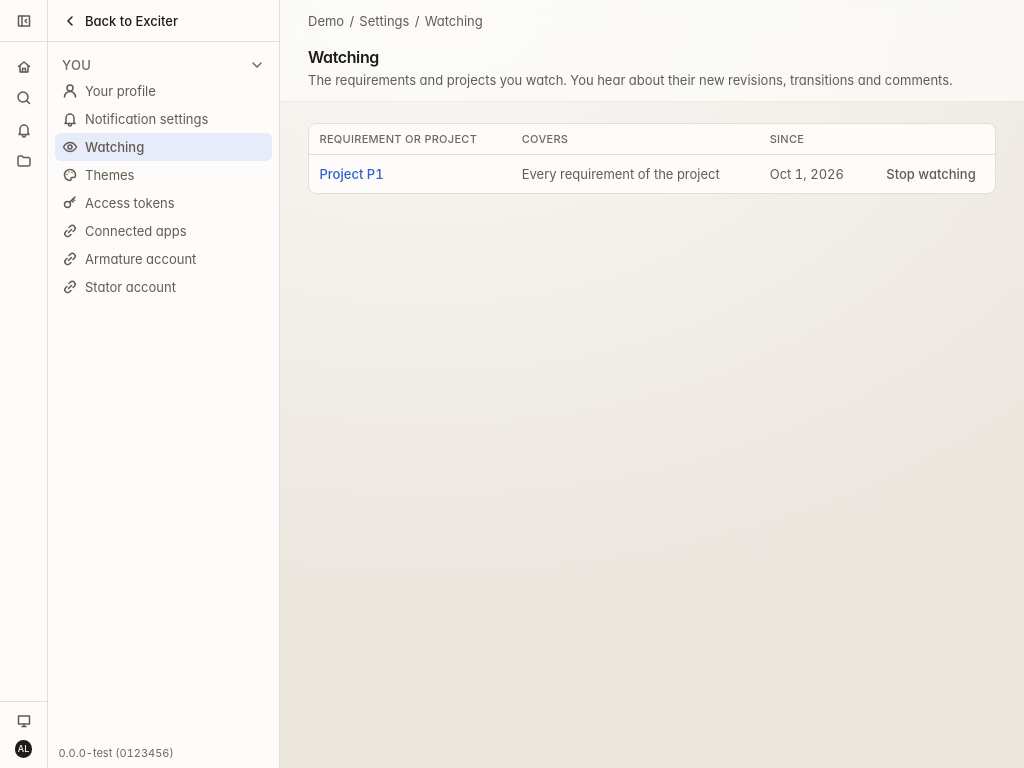
Scenario: the watching list, a page at a time › says so when a stop fails, and keeps the row
The width and height of the screenshot is (1024, 768).
Click the button "Stop watching". click: (931, 174)
box: [878,162,984,186]
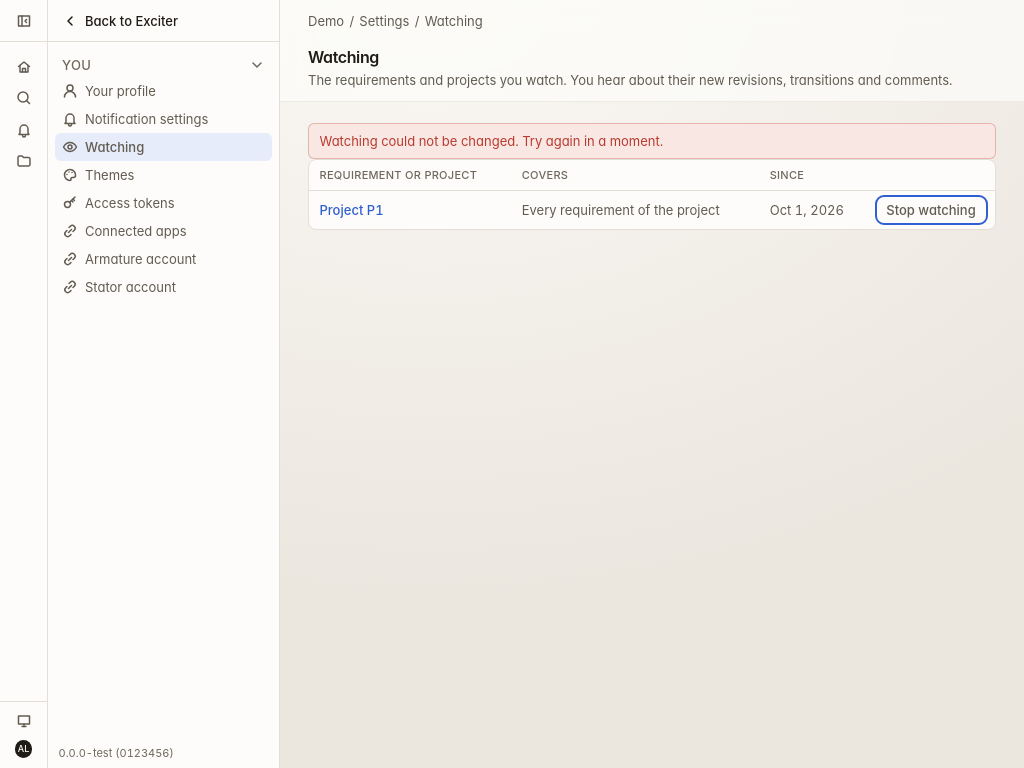
Check: the text "Watching could not be changed. Try again in a moment." is shown, box [320,133,663,149]
